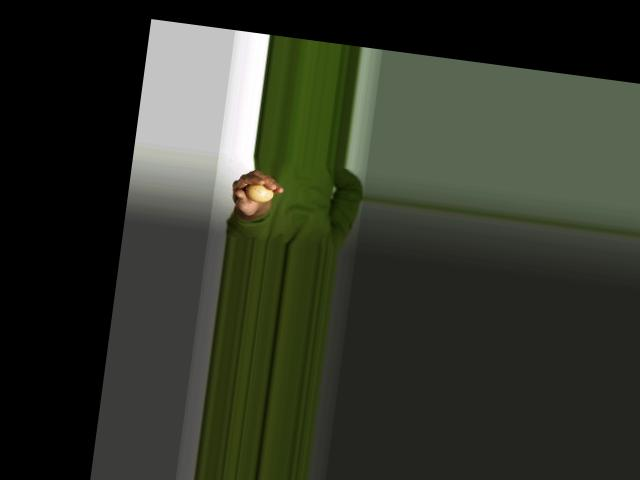egg: (244, 182, 275, 203)
